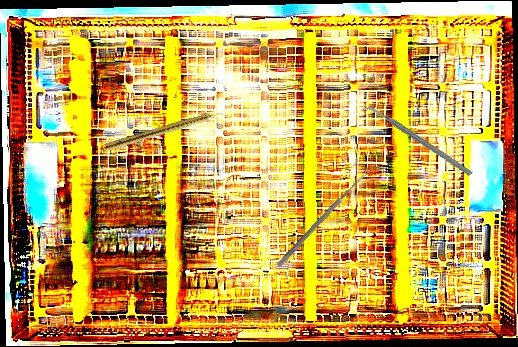Chopper: (360, 76, 474, 206)
Handpiece: (104, 108, 224, 154)
Surgical Spoon: (276, 168, 371, 268)
